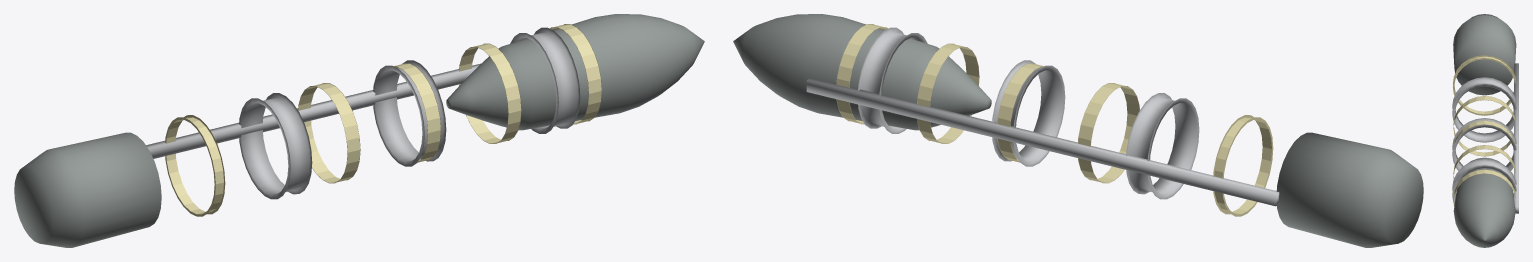
The model's file is RU_SLBM_R29RMU2_Liner_LOD1.fbx.
3 renders of one model, left to right at view 1: azimuth 30°, elevation 25°; view 2: azimuth 150°, elevation 25°; view 3: azimuth 270°, elevation 25°, orthographic. The views are drawn at different scales.
Visible parts, largest first — view 1: WPN_RU_SLBM_R29RMU2_Liner_LOD1_Body, WPN_RU_SLBM_R29RMU2_Liner_LOD1_Detail, WPN_RU_SLBM_R29RMU2_Liner_LOD1_Tail, WPN_RU_SLBM_R29RMU2_Liner_LOD1_Marking; view 2: WPN_RU_SLBM_R29RMU2_Liner_LOD1_Detail, WPN_RU_SLBM_R29RMU2_Liner_LOD1_Body, WPN_RU_SLBM_R29RMU2_Liner_LOD1_Tail, WPN_RU_SLBM_R29RMU2_Liner_LOD1_Marking; view 3: WPN_RU_SLBM_R29RMU2_Liner_LOD1_Body, WPN_RU_SLBM_R29RMU2_Liner_LOD1_Tail, WPN_RU_SLBM_R29RMU2_Liner_LOD1_Detail, WPN_RU_SLBM_R29RMU2_Liner_LOD1_Marking.
Part boxes in pixels (x1,y1,x2,y2): WPN_RU_SLBM_R29RMU2_Liner_LOD1_Body: [446, 14, 704, 130]; WPN_RU_SLBM_R29RMU2_Liner_LOD1_Detail: [146, 27, 580, 199]; WPN_RU_SLBM_R29RMU2_Liner_LOD1_Tail: [14, 132, 161, 247]; WPN_RU_SLBM_R29RMU2_Liner_LOD1_Marking: [165, 24, 601, 216]; WPN_RU_SLBM_R29RMU2_Liner_LOD1_Detail: [806, 27, 1279, 206]; WPN_RU_SLBM_R29RMU2_Liner_LOD1_Body: [733, 14, 991, 130]; WPN_RU_SLBM_R29RMU2_Liner_LOD1_Tail: [1276, 132, 1423, 247]; WPN_RU_SLBM_R29RMU2_Liner_LOD1_Marking: [836, 24, 1273, 216]; WPN_RU_SLBM_R29RMU2_Liner_LOD1_Body: [1453, 157, 1515, 247]; WPN_RU_SLBM_R29RMU2_Liner_LOD1_Tail: [1453, 14, 1516, 95]; WPN_RU_SLBM_R29RMU2_Liner_LOD1_Detail: [1452, 63, 1518, 213]; WPN_RU_SLBM_R29RMU2_Liner_LOD1_Marking: [1453, 55, 1515, 206].
Size of the model in its own units: 14.8 by 2.04 by 2.
